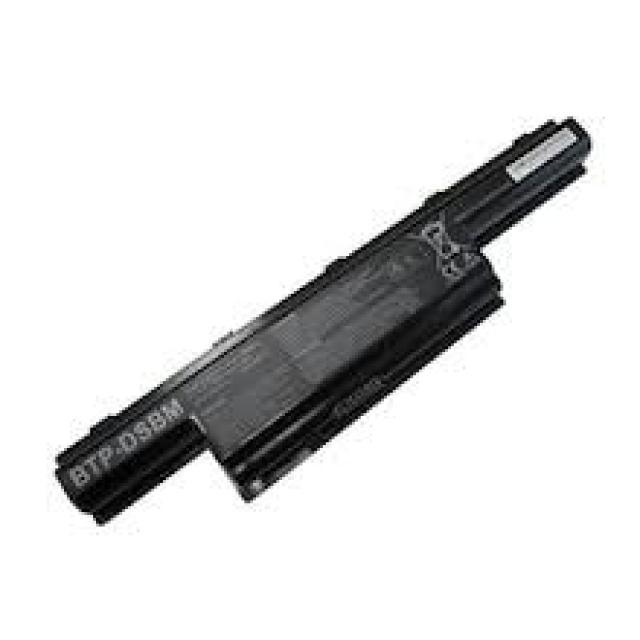battery: (57, 118, 591, 536)
